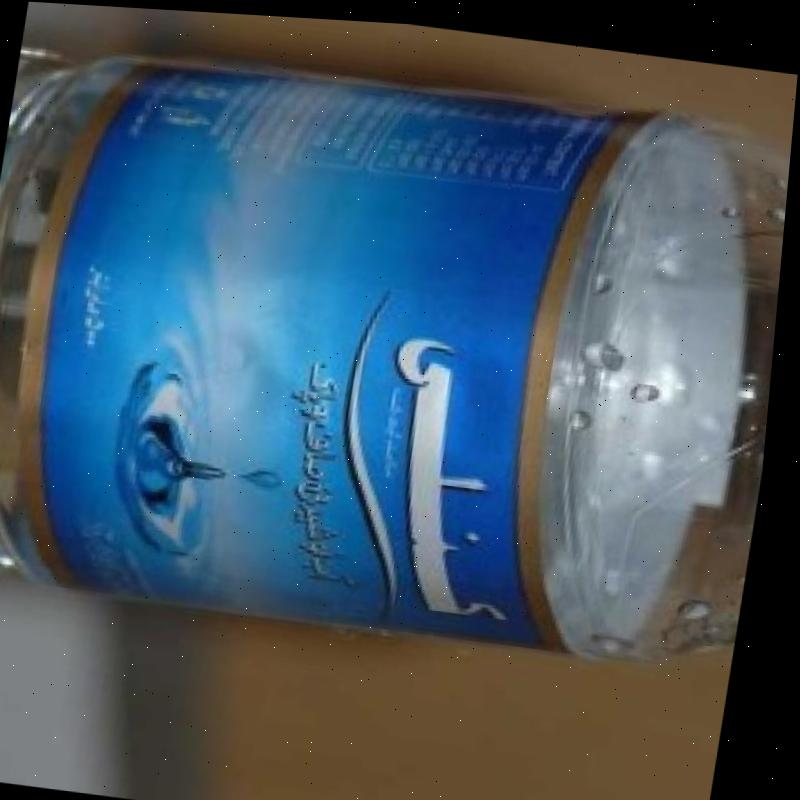botella: (0, 23, 798, 670)
